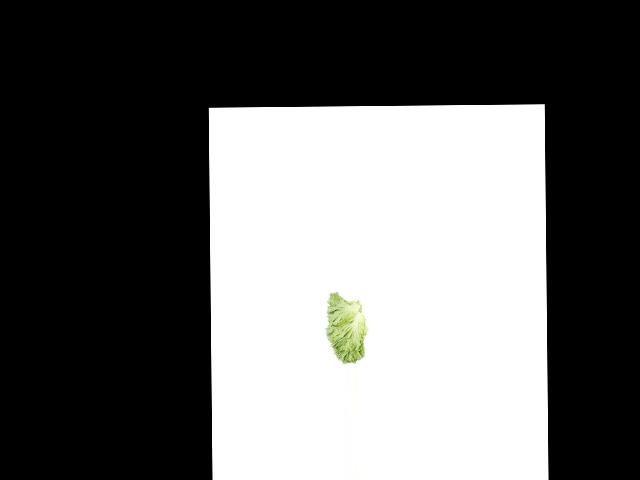lettuce: (319, 292, 371, 364)
